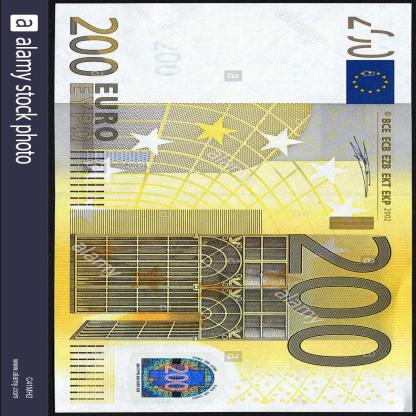euro_banknote: (28, 36, 416, 377)
